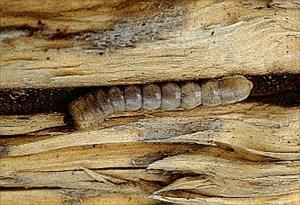Insects: (60, 72, 254, 135)
